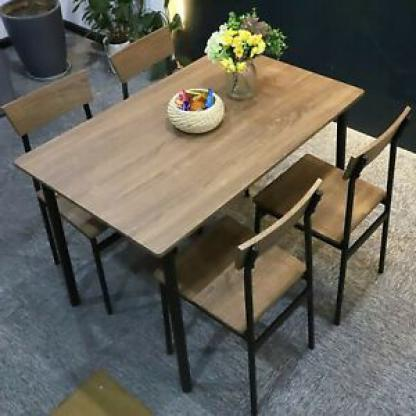chair: (155, 184, 324, 414), (249, 95, 416, 327), (0, 75, 140, 319), (102, 27, 179, 103)
